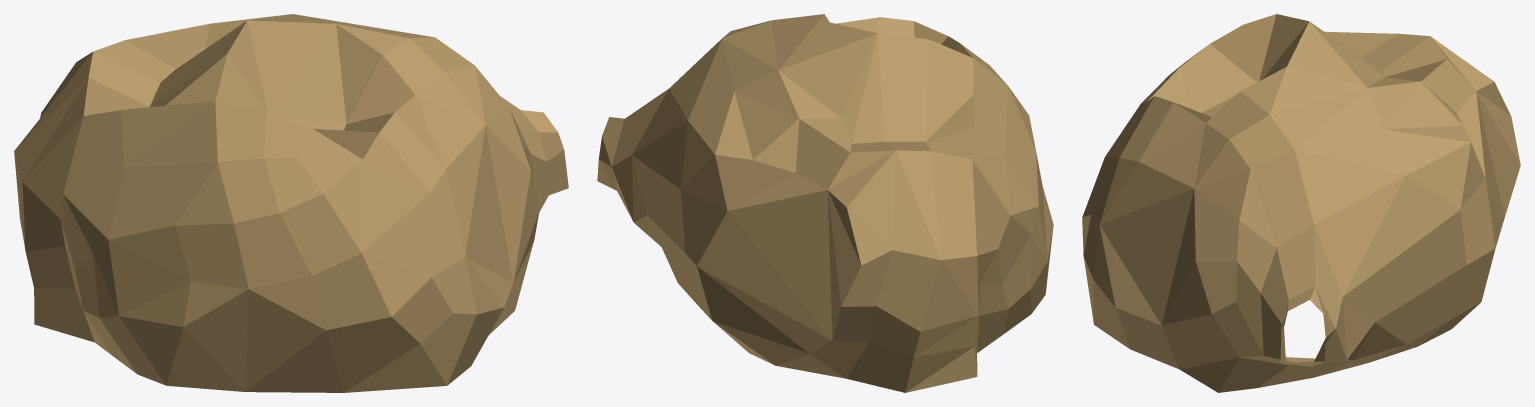
File: Dome-1exit-01.fbx
3 views of the same model, side by side, from view 1: azimuth 30°, elevation 25°; view 2: azimuth 150°, elevation 25°; view 3: azimuth 270°, elevation 25° (orthographic). The views are drawn at different scales.
Visible parts, largest first — view 1: Dome-1exit-01; view 2: Dome-1exit-01; view 3: Dome-1exit-01.
Boxes of the visible parts, bbox=[...] form: Dome-1exit-01: bbox=[14, 14, 568, 392]; Dome-1exit-01: bbox=[597, 14, 1053, 392]; Dome-1exit-01: bbox=[1082, 14, 1520, 392].
Bounding box in the file's own units: 1746 × 1958 × 1239.
